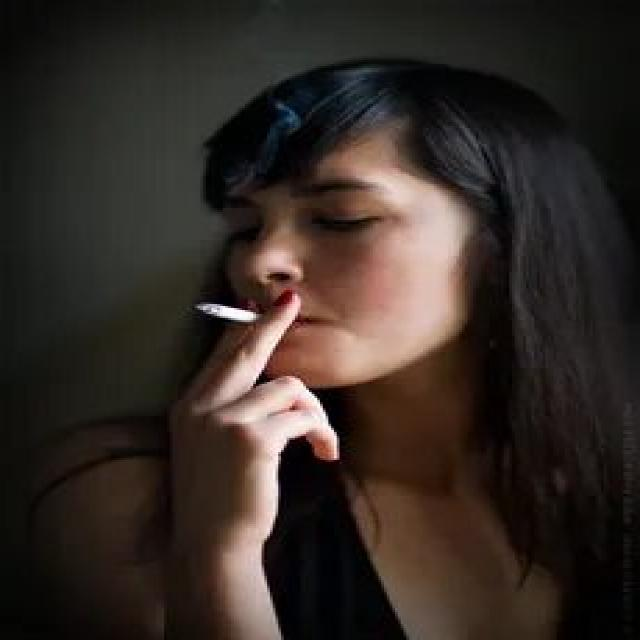smoke: (187, 298, 276, 332)
